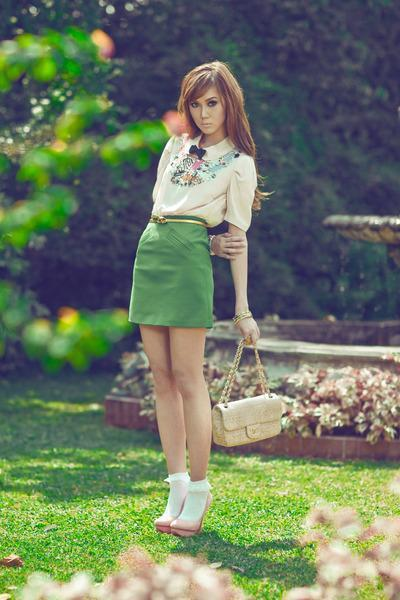bag: (216, 389, 290, 446)
shirt: (152, 134, 257, 227)
shoe: (156, 522, 198, 541)
skirt: (133, 213, 217, 331)
